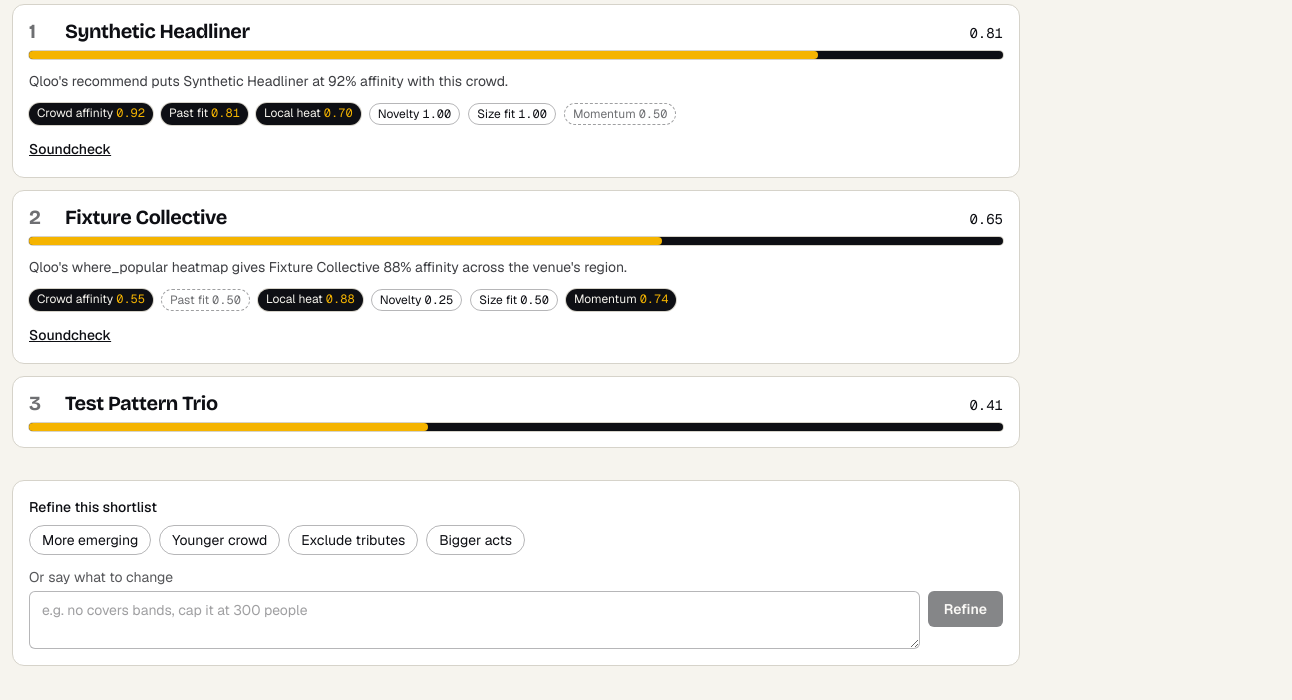
Test: refinable run › names the hour's allowance and the wait when a refinement trips the web's IP limit
(page scrolled)
Click the button "Bigger acts" at (476, 540), box [426,525,525,555]
(page scrolled)
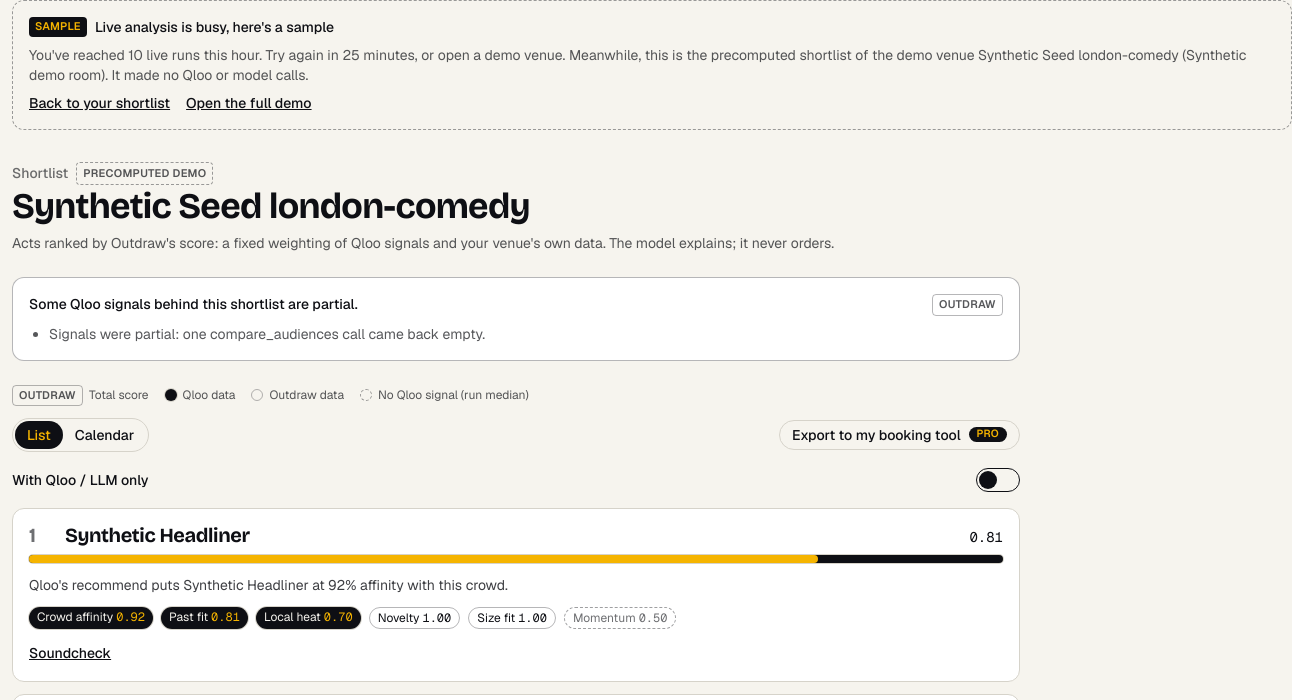
Expected: the message named "Sample shortlist" shows "You've reached 10 live runs this hour. Try again in 25 minutes, or open a demo venue.", [29,46,565,64]
